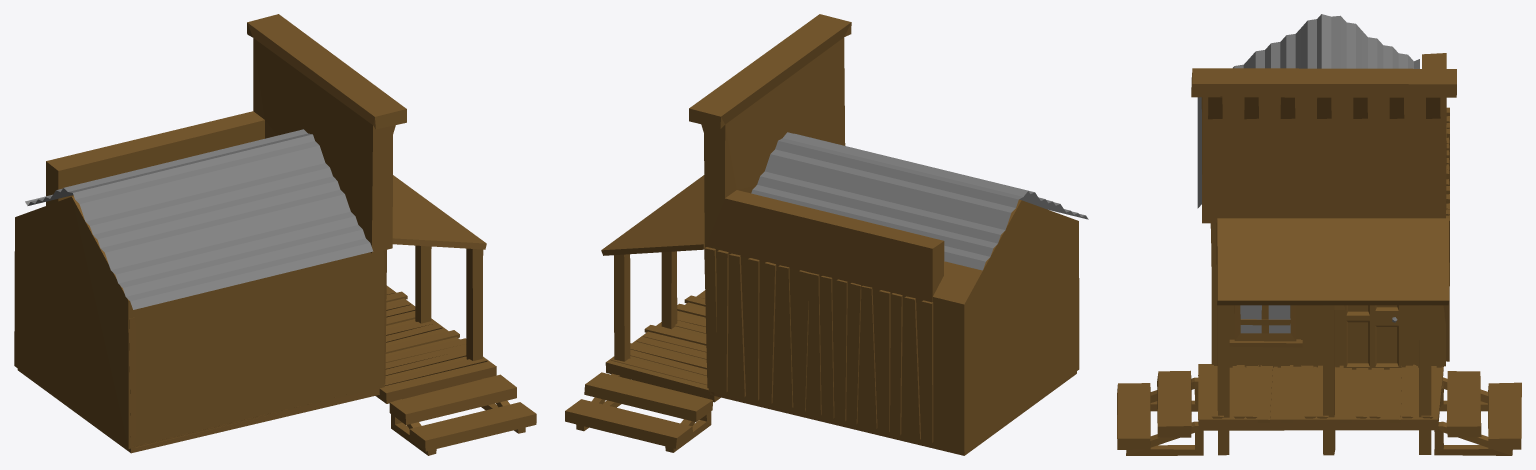
File: casa2 1.fbx
3 views of the same model, side by side, from view 1: azimuth 30°, elevation 25°; view 2: azimuth 150°, elevation 25°; view 3: azimuth 270°, elevation 25° (orthographic). The views are drawn at different scales.
Visible parts, largest first — view 1: estermo 2, interno 2; view 2: estermo 2, interno 2; view 3: estermo 2, interno 2.
Boxes of the visible parts, x1,y1,x2,y2 form: estermo 2: (14,14,486,455); interno 2: (17,285,536,453); estermo 2: (601,14,1088,453); interno 2: (565,290,1076,455); estermo 2: (1150,14,1488,455); interno 2: (1117,305,1521,455).
Bounding box in the file's own units: 289 × 241 × 269.
